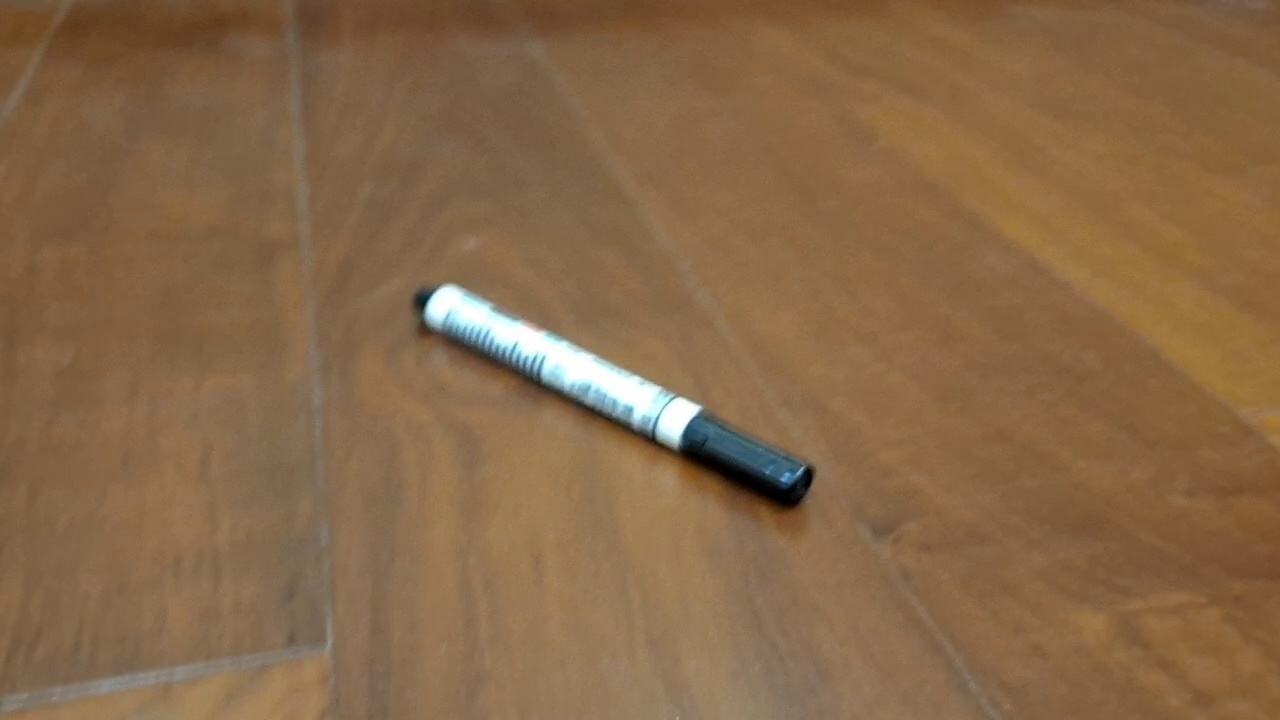pen: (408, 280, 817, 509)
